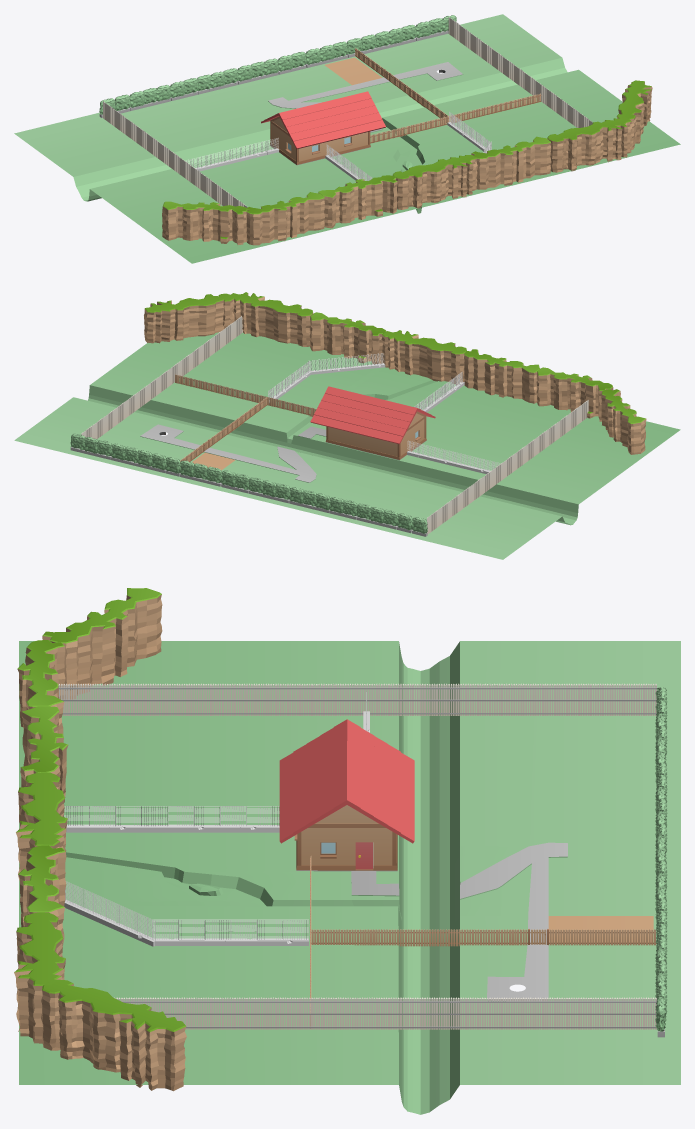
File: beea_level.fbx
The picture shows the model from 3 angles, top to bottom: view 1: azimuth 30°, elevation 25°; view 2: azimuth 150°, elevation 25°; view 3: azimuth 270°, elevation 25°; orthographic projection. The views are drawn at different scales.
Visible parts, largest first — view 1: Terrain, Sud, ReteNord, Tetto, SteccatoEst, SteccatoOvest, Staccionata, Mulino, ReteLiv4-7, ReteLiv1-2, ReteLiv7-1; view 2: Terrain, Sud, ReteNord, Tetto, SteccatoOvest, SteccatoEst, Mulino, Staccionata, ReteLiv1-2, ReteLiv4-7, ReteLiv7-1; view 3: Terrain, Sud, SteccatoOvest, SteccatoEst, Tetto, ReteLiv1-2, Staccionata, Mulino, ReteLiv7-1, ReteNord.
Boxes of the visible parts, x1,y1,x2,y2 form: Terrain: (14, 14, 680, 263); Sud: (162, 80, 652, 245); ReteNord: (99, 15, 456, 117); Tetto: (261, 91, 385, 148); SteccatoEst: (448, 17, 592, 127); SteccatoOvest: (103, 101, 247, 207); Staccionata: (354, 48, 541, 143); Mulino: (270, 116, 370, 165); ReteLiv4-7: (186, 138, 279, 171); ReteLiv1-2: (447, 111, 491, 153); ReteLiv7-1: (325, 144, 397, 208); Terrain: (14, 332, 680, 559); Sud: (144, 292, 646, 454); ReteNord: (70, 433, 427, 536); Tetto: (310, 386, 435, 444); SteccatoOvest: (427, 400, 588, 534); SteccatoEst: (81, 316, 242, 438); Mulino: (325, 411, 426, 460); Staccionata: (175, 374, 316, 462); ReteLiv1-2: (268, 353, 385, 403); ReteLiv4-7: (406, 440, 500, 474); ReteLiv7-1: (414, 372, 464, 412); Terrain: (19, 641, 680, 1114); Sud: (14, 588, 186, 1091); SteccatoOvest: (58, 683, 656, 715); SteccatoEst: (114, 997, 656, 1029); Tetto: (279, 719, 414, 843); ReteLiv1-2: (64, 881, 308, 946); Staccionata: (310, 856, 656, 1028); Mulino: (294, 805, 397, 871); ReteLiv7-1: (63, 806, 279, 832); ReteNord: (655, 687, 667, 1037).
Bounding box in the file's own units: 73633 × 46122 × 8455.
